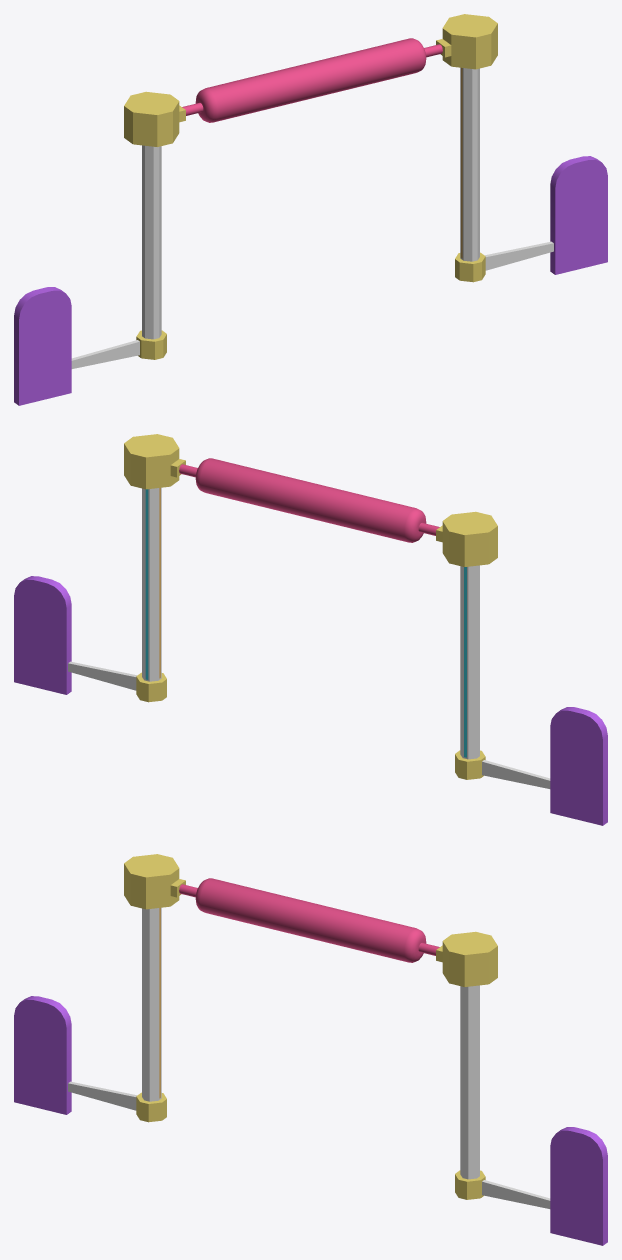
The model's file is Deco-pole.fbx.
3 renders of one model, top to bottom at view 1: azimuth 30°, elevation 25°; view 2: azimuth 150°, elevation 25°; view 3: azimuth 330°, elevation 25°, orthographic.
Visible parts, largest first — view 1: Cube.002; view 2: Cube.002; view 3: Cube.002.
Boxes of the visible parts, x1,y1,x2,y2 form: Cube.002: (14, 14, 607, 405); Cube.002: (14, 434, 607, 825); Cube.002: (14, 854, 607, 1245).
Size of the model in its own units: 2308 by 1002 by 182.
